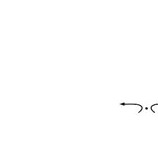enseble_chain: (119, 98, 145, 117)
